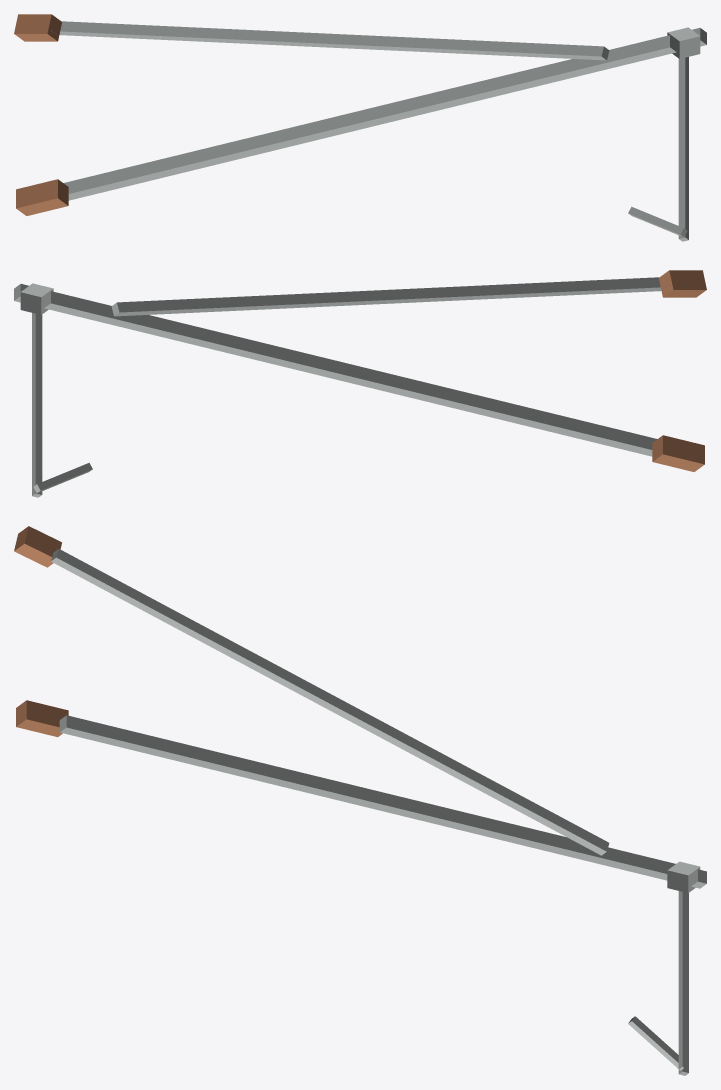
File: trakce_vyloznik_sikmy.glb
3 renders of one model, top to bottom at view 1: azimuth 30°, elevation 25°; view 2: azimuth 150°, elevation 25°; view 3: azimuth 330°, elevation 25°, orthographic.
Parts seen in each view (by area): view 1: trakce_vyloznik_sikmy; view 2: trakce_vyloznik_sikmy; view 3: trakce_vyloznik_sikmy.
Part boxes in pixels (left/top/right/bottom): trakce_vyloznik_sikmy: left=14, top=14, right=706, bottom=241; trakce_vyloznik_sikmy: left=14, top=270, right=706, bottom=497; trakce_vyloznik_sikmy: left=14, top=526, right=706, bottom=1075.
Bounding box in the file's own units: 5.23 × 2.8 × 0.16.
